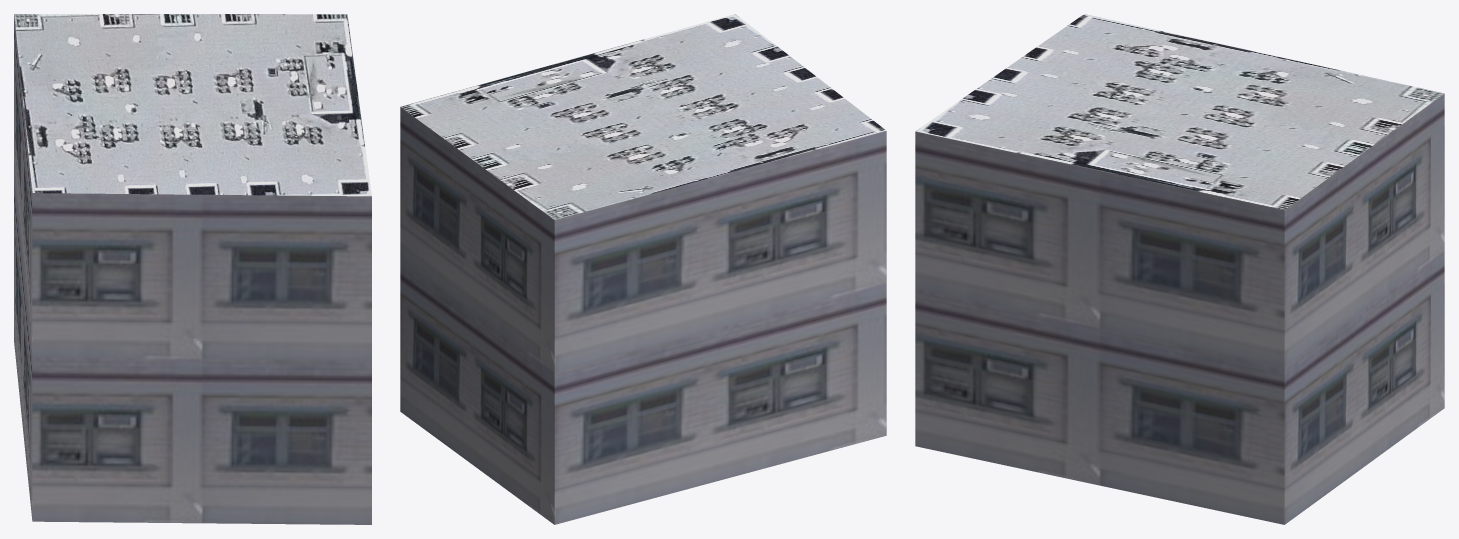
Rendered from ResTex__4044.fbx.
3 renders of one model, left to right at view 1: azimuth 30°, elevation 25°; view 2: azimuth 150°, elevation 25°; view 3: azimuth 270°, elevation 25°, orthographic. The views are drawn at different scales.
Visible parts, largest first — view 1: CityEngineMaterial_1_m, CityEngineMaterial_4_m; view 2: CityEngineMaterial_1_m, CityEngineMaterial_4_m; view 3: CityEngineMaterial_1_m, CityEngineMaterial_4_m.
Part boxes in pixels (x1,y1,x2,y2): CityEngineMaterial_1_m: (14,14,371,524); CityEngineMaterial_4_m: (14,14,371,196); CityEngineMaterial_1_m: (400,107,886,524); CityEngineMaterial_4_m: (400,14,886,219); CityEngineMaterial_1_m: (915,93,1444,524); CityEngineMaterial_4_m: (915,14,1444,209).
Size of the model in its own units: 8.02 by 6 by 9.15.
Materials: 2 (2 with a texture image).
